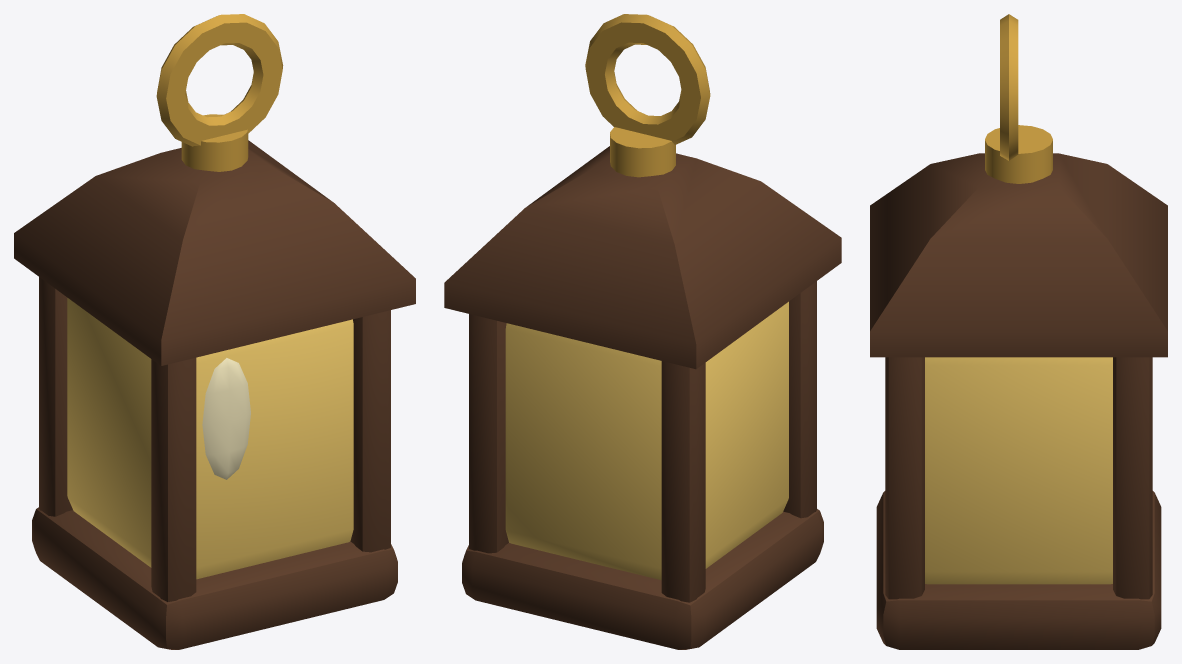
Rendered from sig_lantern.gltf.
3 renders of one model, left to right at view 1: azimuth 30°, elevation 25°; view 2: azimuth 150°, elevation 25°; view 3: azimuth 270°, elevation 25°, orthographic. The views are drawn at different scales.
Parts seen in each view (by area): view 1: sig_lantern; view 2: sig_lantern; view 3: sig_lantern.
Boxes of the visible parts, x1=… form: sig_lantern: x1=14, y1=14, x2=415, y2=649; sig_lantern: x1=444, y1=14, x2=841, y2=649; sig_lantern: x1=870, y1=14, x2=1167, y2=649.
Bounding box in the file's own units: 1 × 2.14 × 1.
